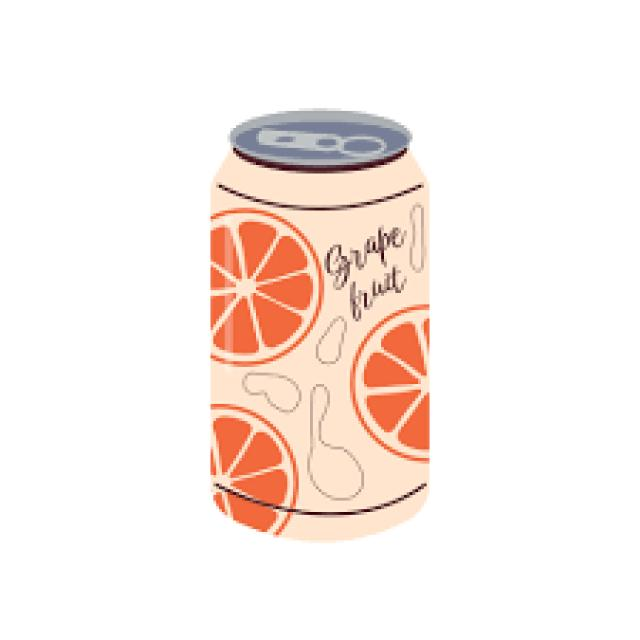Cans: (193, 100, 450, 546)
